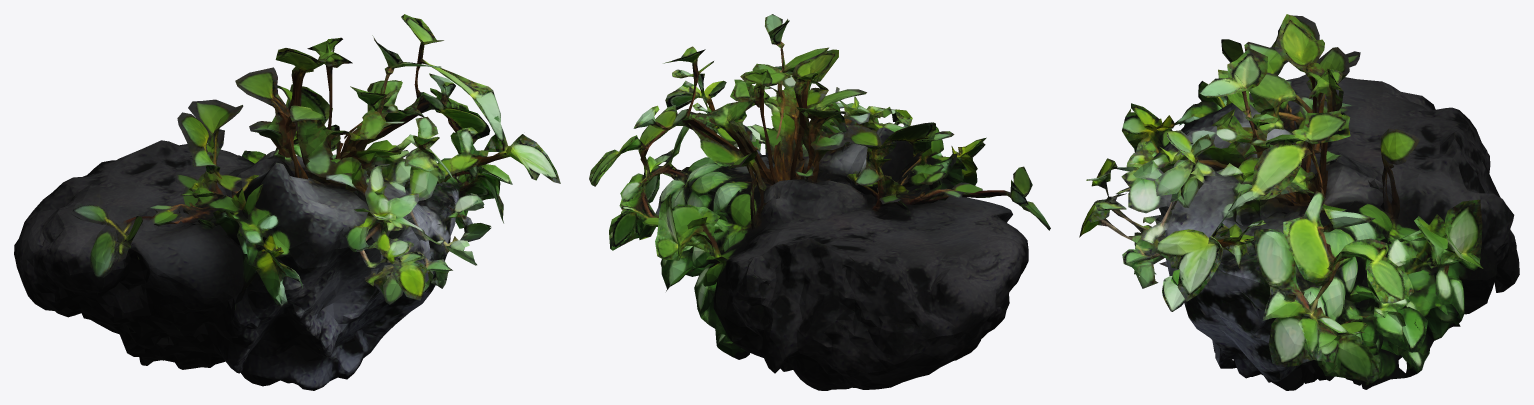
Rendered from lava-rock-plant-holder-new-style.jpeg.glb.
The picture shows the model from 3 angles, left to right: view 1: azimuth 30°, elevation 25°; view 2: azimuth 150°, elevation 25°; view 3: azimuth 270°, elevation 25°; orthographic projection. The views are drawn at different scales.
Visible parts, largest first — view 1: world; view 2: world; view 3: world.
Boxes of the visible parts, left/top/right/bottom form: world: left=14, top=14, right=560, bottom=390; world: left=589, top=14, right=1050, bottom=390; world: left=1079, top=14, right=1519, bottom=390.
Size of the model in its own units: 0.9945 by 0.6981 by 0.7927.
1 material, 1 textured.
